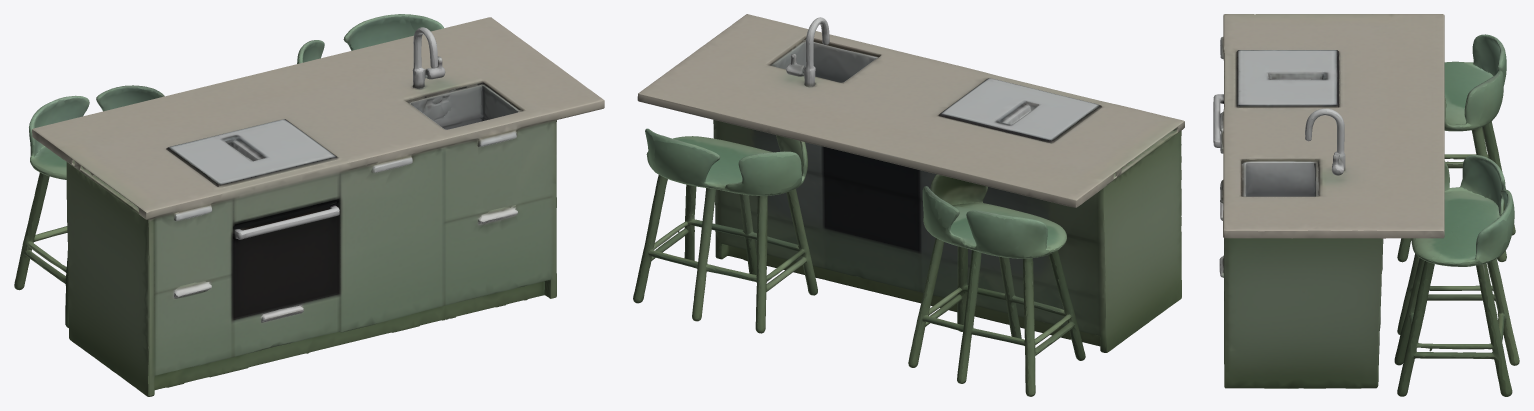
The model's file is item_df17d193.glb.
The picture shows the model from 3 angles, left to right: view 1: azimuth 30°, elevation 25°; view 2: azimuth 150°, elevation 25°; view 3: azimuth 270°, elevation 25°; orthographic projection. The views are drawn at different scales.
Parts seen in each view (by area): view 1: world; view 2: world; view 3: world.
Part boxes in pixels (bbox=[...]): world: bbox=[14, 14, 604, 396]; world: bbox=[633, 14, 1184, 396]; world: bbox=[1213, 14, 1519, 396].
Bounding box in the file's own units: 2.4 × 1.25 × 1.43.
1 material, 1 textured.
